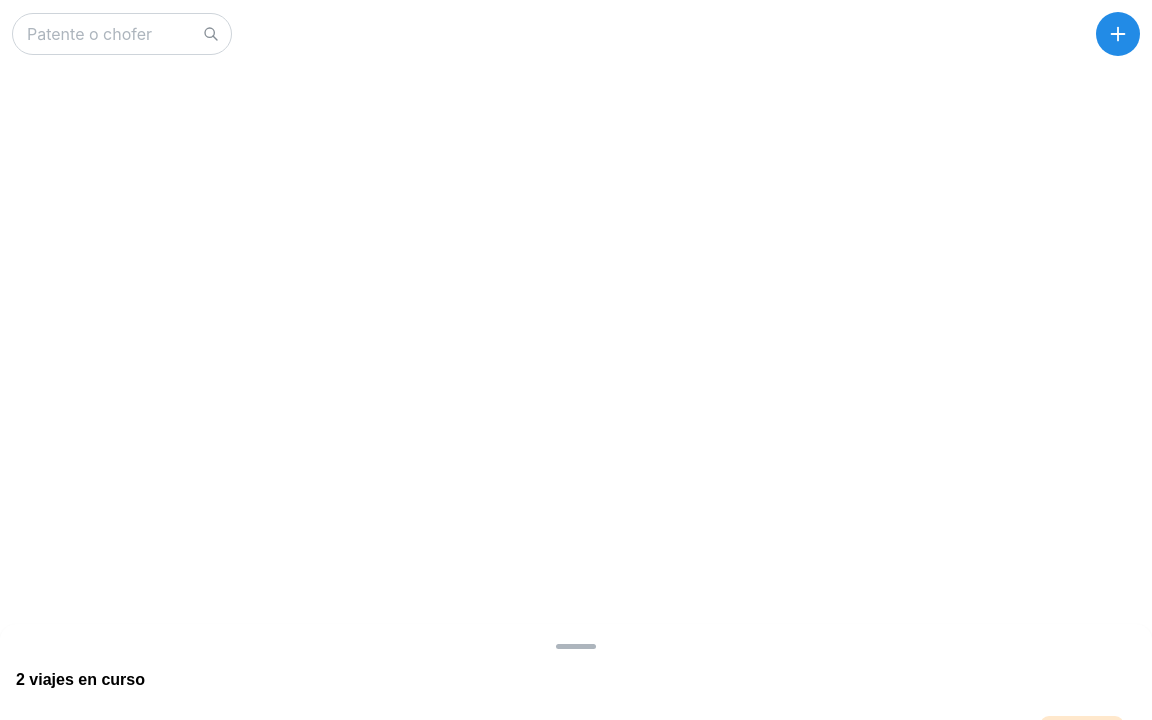
MapaMobile › al seleccionar un viaje la hoja vuelve a asomada
Later steps or results of the test are not shown.
Click the button with test id "map-bottom-sheet-handle": (576, 646) [556,644,596,648]
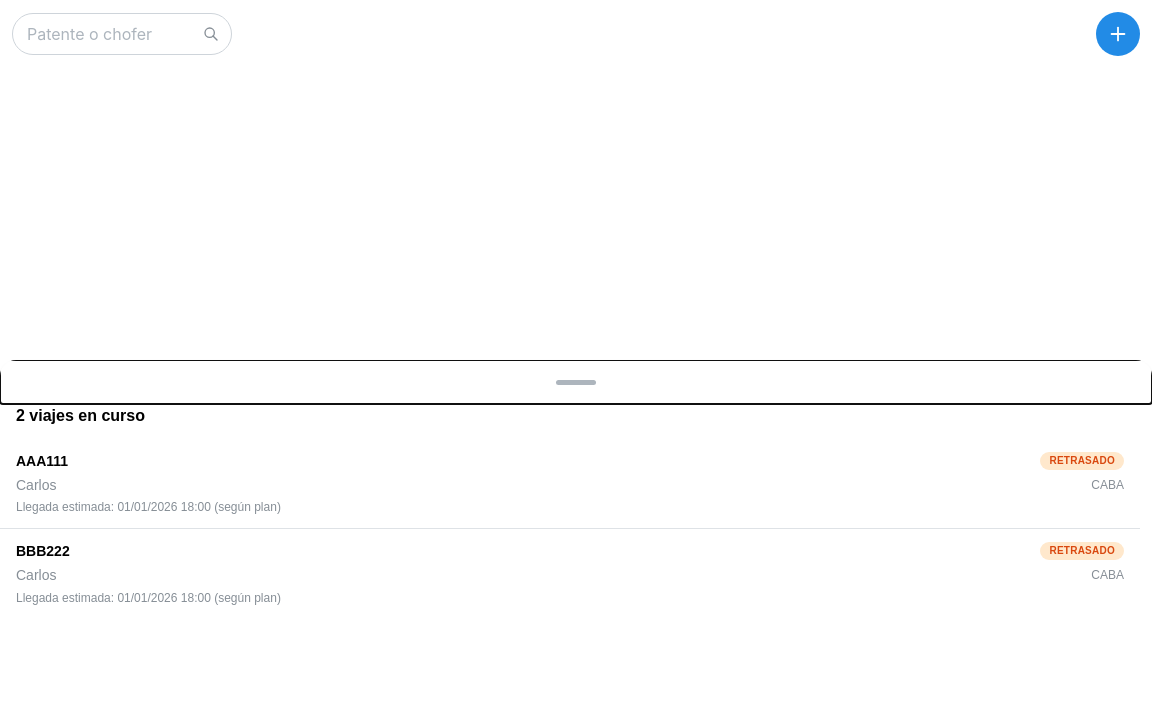
Now the element with test id "map-bottom-sheet" has attribute data-snap="half", box [0,360,1151,719]
